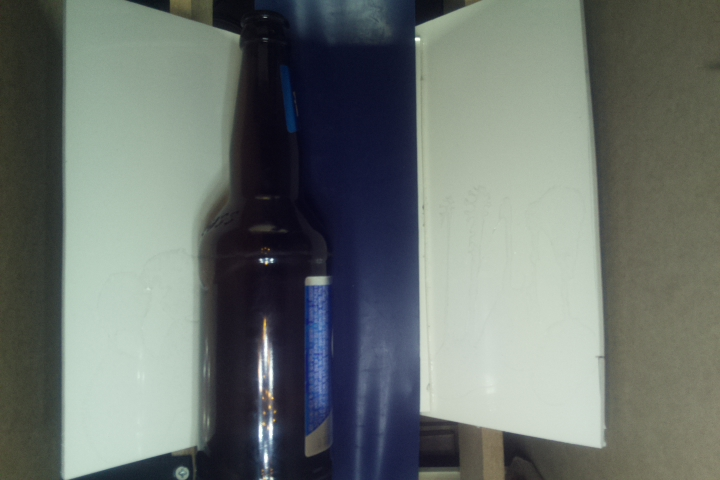makju: (193, 8, 336, 480)
